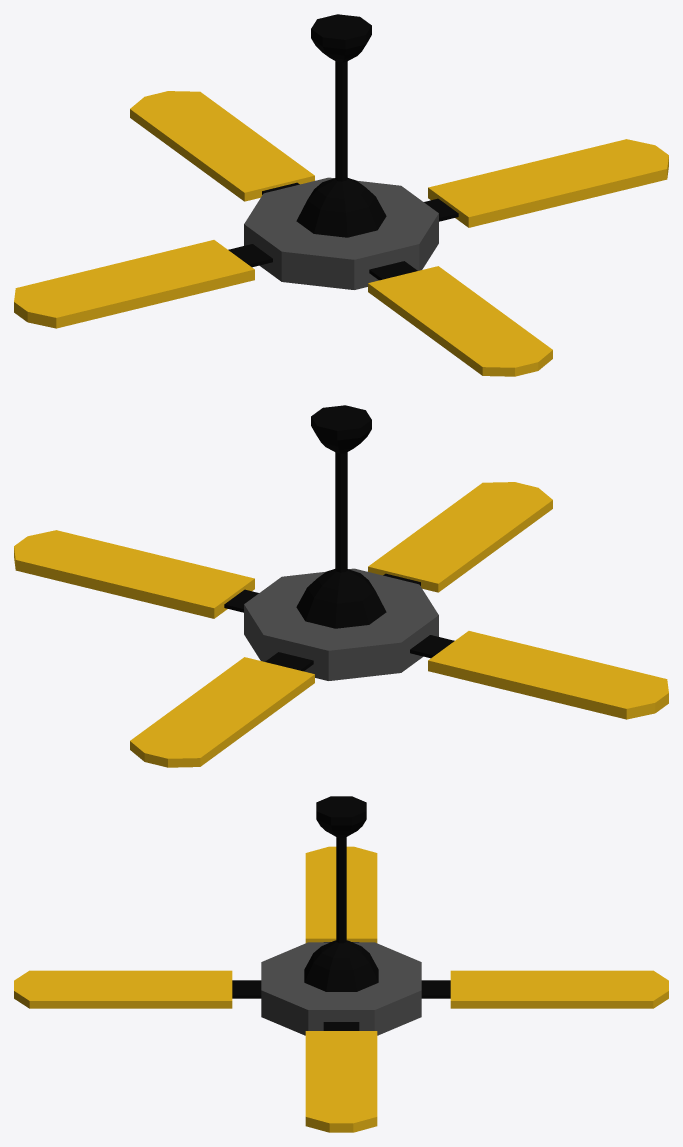
File: Ventilador.fbx
3 views of the same model, one above another, from view 1: azimuth 30°, elevation 25°; view 2: azimuth 150°, elevation 25°; view 3: azimuth 270°, elevation 25° (orthographic). The views are drawn at different scales.
Parts seen in each view (by area): view 1: Ventilador; view 2: Ventilador; view 3: Ventilador.
Part boxes in pixels (x1,y1,x2,y2): Ventilador: (14,14,668,376); Ventilador: (14,405,668,767); Ventilador: (14,796,668,1132).
Size of the model in its own units: 141 by 46.74 by 141.
